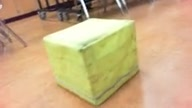cube: (43, 18, 140, 105)
